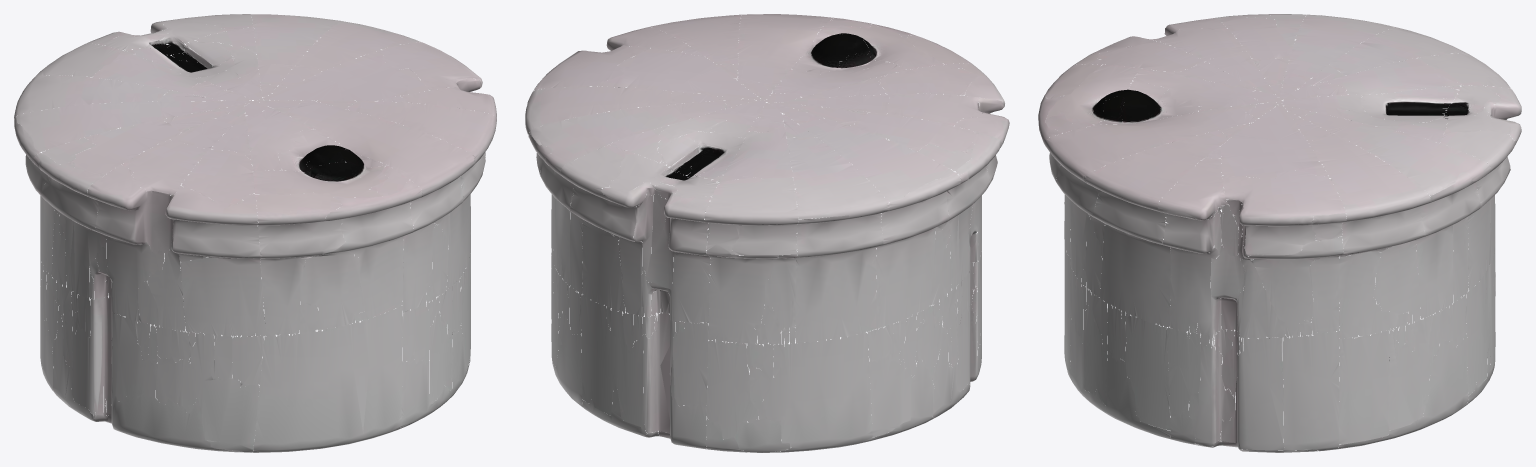
The model's file is aimant-rondo3.glb.
3 renders of one model, left to right at view 1: azimuth 30°, elevation 25°; view 2: azimuth 150°, elevation 25°; view 3: azimuth 270°, elevation 25°, orthographic.
Visible parts, largest first — view 1: tripo_node_560f094c-66ed-496a-a108-c1d0602af929; view 2: tripo_node_560f094c-66ed-496a-a108-c1d0602af929; view 3: tripo_node_560f094c-66ed-496a-a108-c1d0602af929.
Part boxes in pixels (x1=…): tripo_node_560f094c-66ed-496a-a108-c1d0602af929: x1=14, y1=14, x2=496, y2=452; tripo_node_560f094c-66ed-496a-a108-c1d0602af929: x1=525, y1=14, x2=1009, y2=452; tripo_node_560f094c-66ed-496a-a108-c1d0602af929: x1=1038, y1=14, x2=1521, y2=452.
Size of the model in its own units: 0.9802 by 0.6396 by 0.9796.
Materials: 1 (1 with a texture image).
